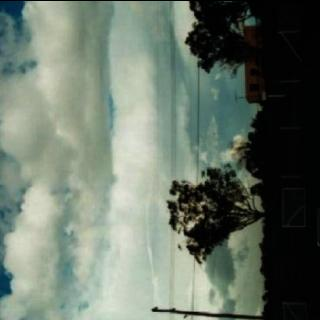Stratocumulus: (0, 0, 252, 320)
